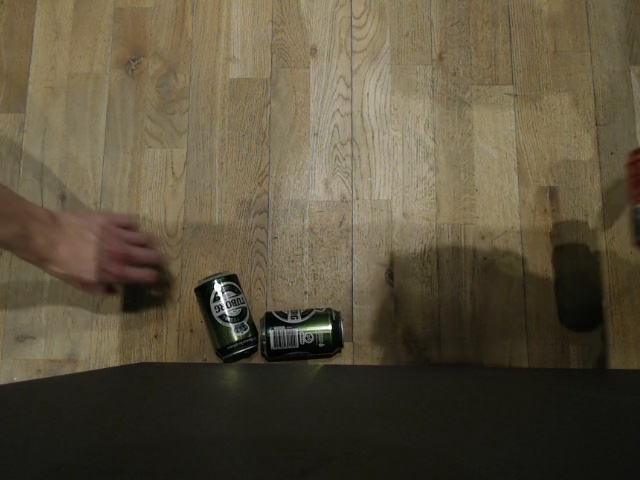beer: (190, 269, 258, 362), (260, 305, 343, 362)
cola: (627, 147, 639, 254)
